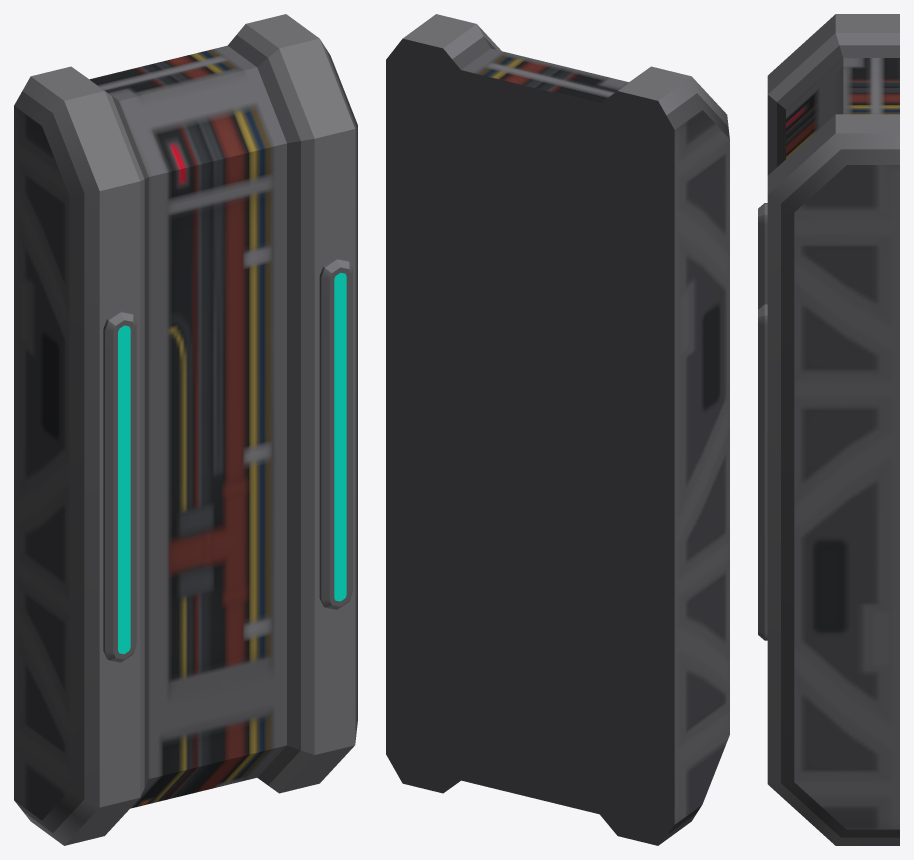
File: SM_Prop_Greebles_10.fbx
The picture shows the model from 3 angles, left to right: view 1: azimuth 30°, elevation 25°; view 2: azimuth 150°, elevation 25°; view 3: azimuth 270°, elevation 25°; orthographic projection. The views are drawn at different scales.
Parts seen in each view (by area): view 1: SM_Prop_Greebles_10; view 2: SM_Prop_Greebles_10; view 3: SM_Prop_Greebles_10.
Boxes of the visible parts, <box> form: SM_Prop_Greebles_10: <box>14,14,357,845</box>; SM_Prop_Greebles_10: <box>386,14,729,845</box>; SM_Prop_Greebles_10: <box>758,14,899,845</box>.
Bounding box in the file's own units: 57.54 × 142 × 25.58.
